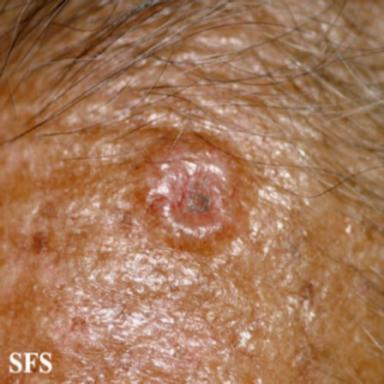basal-cell-carcinoma: (128, 132, 262, 256)
